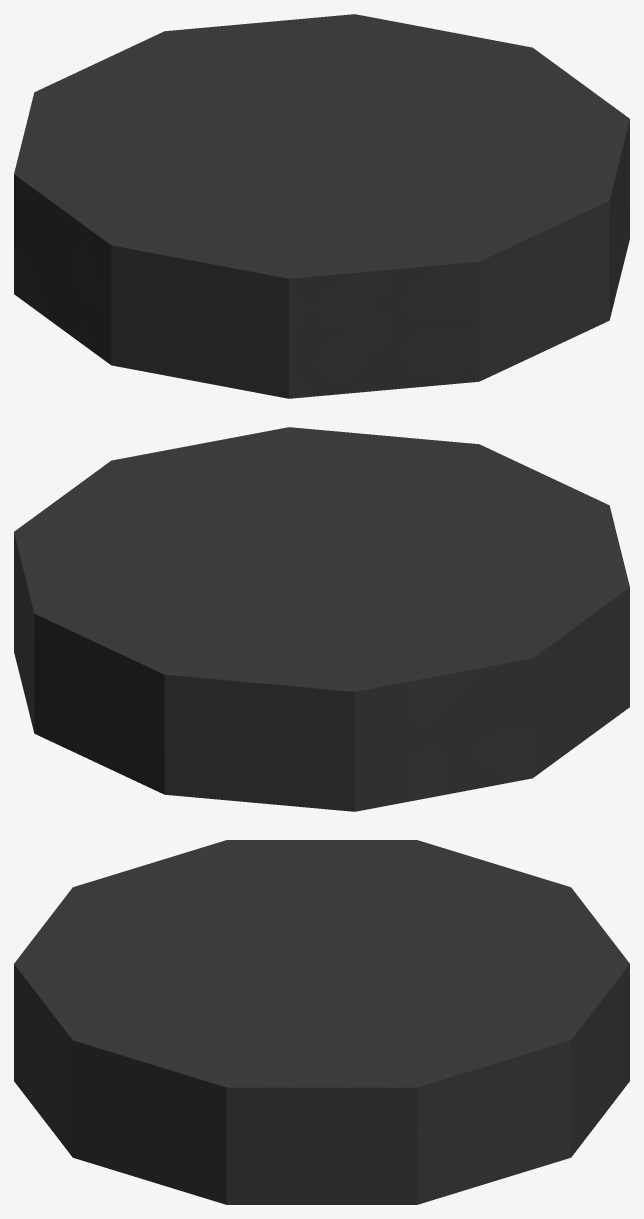
File: Light_01.fbx
3 views of the same model, one above another, from view 1: azimuth 30°, elevation 25°; view 2: azimuth 150°, elevation 25°; view 3: azimuth 270°, elevation 25° (orthographic). The views are drawn at different scales.
Visible parts, largest first — view 1: Light_01; view 2: Light_01; view 3: Light_01.
Part boxes in pixels (<box>): Light_01: <box>14,14,629,398</box>; Light_01: <box>14,427,629,811</box>; Light_01: <box>14,840,629,1204</box>.
Size of the model in its own units: 0.1724 by 0.0381 by 0.1813.
